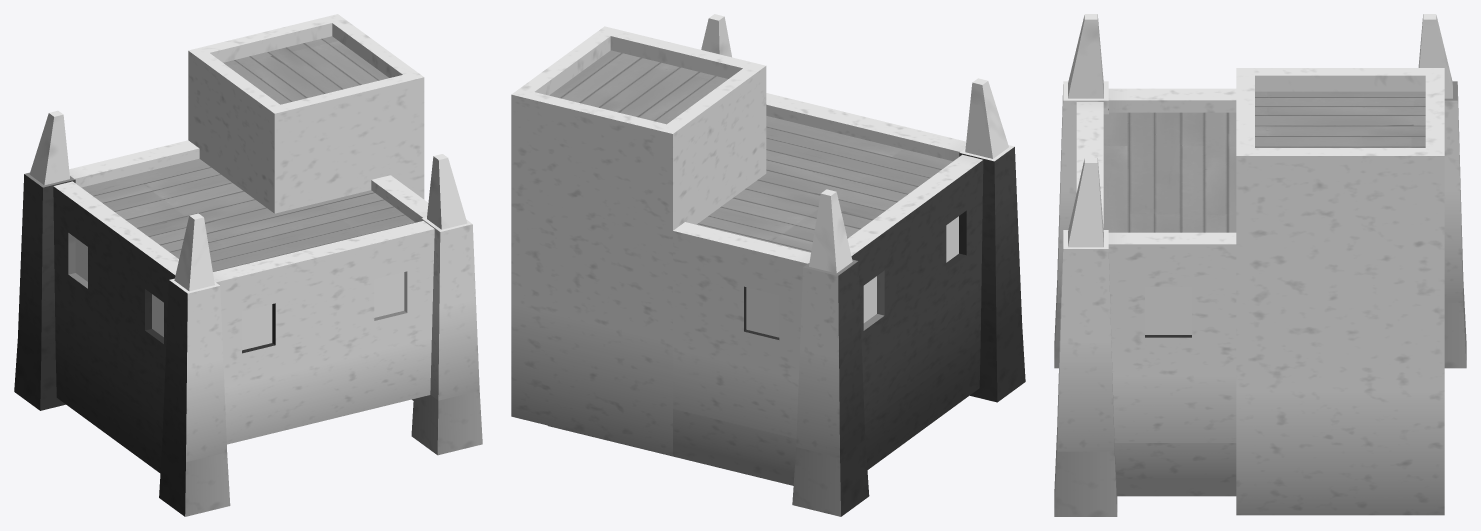
The model's file is DesertHouseB.fbx.
3 views of the same model, side by side, from view 1: azimuth 30°, elevation 25°; view 2: azimuth 150°, elevation 25°; view 3: azimuth 270°, elevation 25° (orthographic). The views are drawn at different scales.
Parts seen in each view (by area): view 1: DesertHouseB; view 2: DesertHouseB; view 3: DesertHouseB.
Part boxes in pixels (box(x1,y1,x2,y2)): DesertHouseB: box(14, 14, 482, 516); DesertHouseB: box(511, 14, 1025, 516); DesertHouseB: box(1054, 14, 1466, 516).
Bounding box in the file's own units: 1154 × 1079 × 1086.
